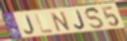5: (100, 5, 121, 28)
J: (74, 9, 87, 30), (23, 15, 36, 36)
L: (34, 13, 55, 35)
N: (50, 11, 73, 34)
S: (85, 7, 105, 30)
